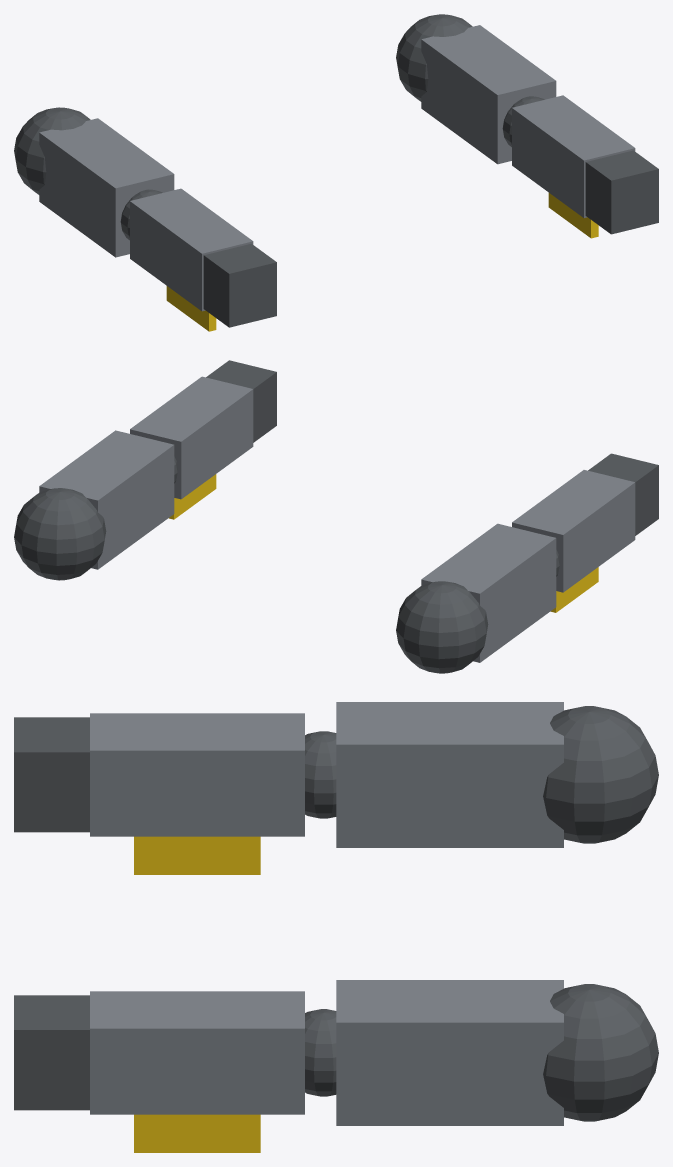
The model's file is arms-scout.glb.
3 renders of one model, top to bottom at view 1: azimuth 30°, elevation 25°; view 2: azimuth 150°, elevation 25°; view 3: azimuth 270°, elevation 25°, orthographic. The views are drawn at different scales.
Visible parts, largest first — view 1: upper_1, upper_-1, fore_-1, fore_1, fist_-1, fist_1, shoulder_-1, shoulder_1, fin_-1, fin_1; view 2: upper_-1, upper_1, fore_-1, fore_1, shoulder_1, shoulder_-1, fist_1, fist_-1, fin_-1, fin_1; view 3: upper_-1, upper_1, fore_-1, fore_1, shoulder_1, shoulder_-1, fist_-1, fist_1, fin_-1, fin_1, elbow_-1, elbow_1.
Boxes of the visible parts, x1,y1,x2,y2 form: upper_1: [421, 25, 556, 164]; upper_-1: [39, 118, 174, 257]; fore_-1: [130, 188, 253, 311]; fore_1: [512, 95, 635, 217]; fist_-1: [203, 243, 276, 327]; fist_1: [585, 150, 658, 234]; shoulder_-1: [14, 107, 90, 194]; shoulder_1: [396, 14, 472, 101]; fin_-1: [166, 286, 216, 331]; fin_1: [548, 193, 598, 238]; upper_-1: [421, 523, 556, 662]; upper_1: [39, 430, 174, 569]; fore_-1: [512, 470, 635, 592]; fore_1: [130, 376, 253, 499]; shoulder_1: [14, 488, 106, 580]; shoulder_-1: [396, 581, 488, 673]; fist_1: [206, 360, 276, 442]; fist_-1: [588, 453, 658, 535]; fin_-1: [550, 567, 598, 612]; fin_1: [169, 474, 216, 519]; upper_-1: [336, 702, 563, 847]; upper_1: [336, 980, 563, 1125]; fore_-1: [90, 713, 304, 836]; fore_1: [90, 991, 304, 1114]; shoulder_1: [543, 984, 658, 1121]; shoulder_-1: [543, 706, 658, 843]; fist_-1: [14, 717, 89, 832]; fist_1: [14, 995, 89, 1110]; fin_-1: [134, 836, 260, 874]; fin_1: [134, 1114, 260, 1152]; elbow_-1: [305, 731, 336, 818]; elbow_1: [305, 1009, 336, 1096].
Bounding box in the file's own units: 1.25 × 0.28 × 1.02.
